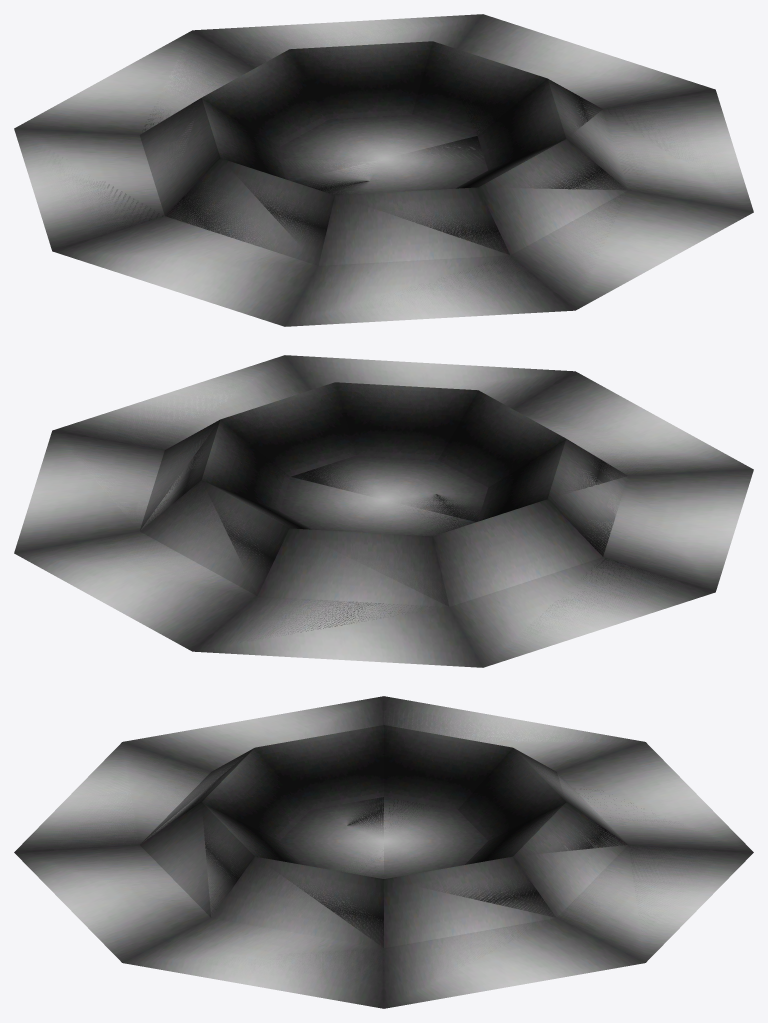
The model's file is vfx_kurp_1085.dae.
The picture shows the model from 3 angles, top to bottom: view 1: azimuth 30°, elevation 25°; view 2: azimuth 150°, elevation 25°; view 3: azimuth 270°, elevation 25°; orthographic projection. The views are drawn at different scales.
Parts seen in each view (by area): view 1: vfx_kurp_1085; view 2: vfx_kurp_1085; view 3: vfx_kurp_1085.
Part boxes in pixels (x1=…): vfx_kurp_1085: x1=14, y1=14, x2=753, y2=326; vfx_kurp_1085: x1=14, y1=355, x2=753, y2=667; vfx_kurp_1085: x1=14, y1=696, x2=753, y2=1008.
Bounding box in the file's own units: 4.88 × 4.88 × 0.3669.
1 material, 1 textured.
